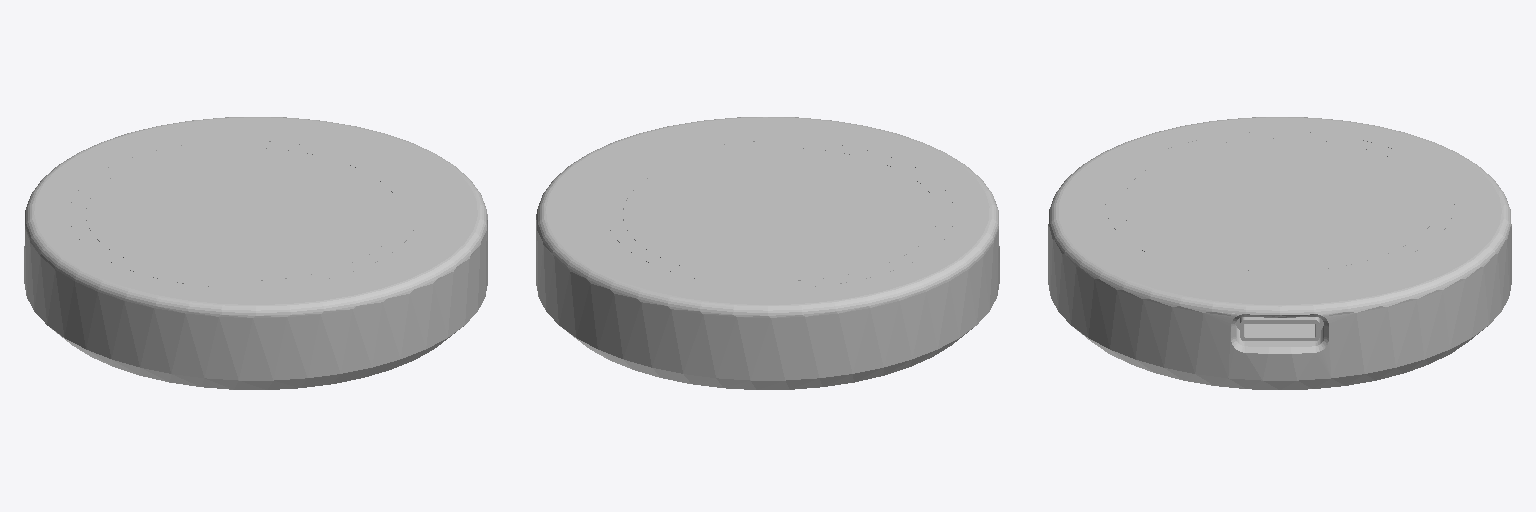
The model's file is blackqpin.obj.
3 views of the same model, side by side, from view 1: azimuth 30°, elevation 25°; view 2: azimuth 150°, elevation 25°; view 3: azimuth 270°, elevation 25° (orthographic).
Parts seen in each view (by area): view 1: New Design, Mock Screen, Mock Screen Body; view 2: New Design, Mock Screen, Mock Screen Body; view 3: New Design, Mock Screen, Mock Screen Body, Mock Charging Port.
Boxes of the visible parts, x1=… form: New Design: x1=24, y1=117, x2=487, y2=389; Mock Screen: x1=86, y1=148, x2=400, y2=280; Mock Screen Body: x1=69, y1=141, x2=451, y2=287; New Design: x1=536, y1=117, x2=999, y2=389; Mock Screen: x1=623, y1=148, x2=937, y2=280; Mock Screen Body: x1=572, y1=141, x2=954, y2=287; New Design: x1=1048, y1=117, x2=1511, y2=389; Mock Screen: x1=1122, y1=139, x2=1437, y2=271; Mock Screen Body: x1=1106, y1=131, x2=1453, y2=329; Mock Charging Port: x1=1240, y1=317, x2=1319, y2=340.
Bounding box in the file's own units: 4.7 × 1 × 4.7.